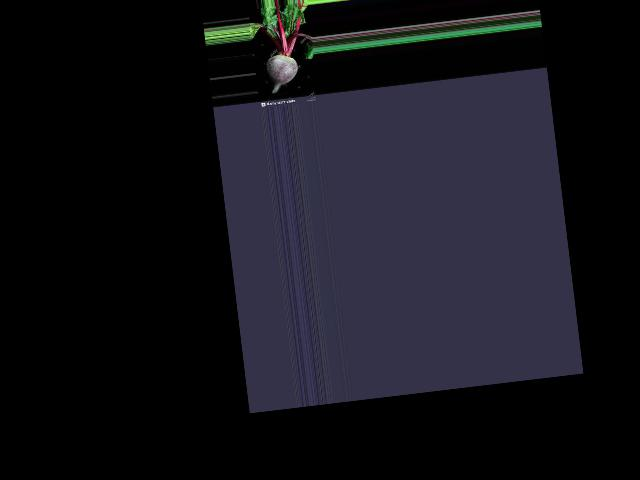beet: (247, 2, 318, 95)
